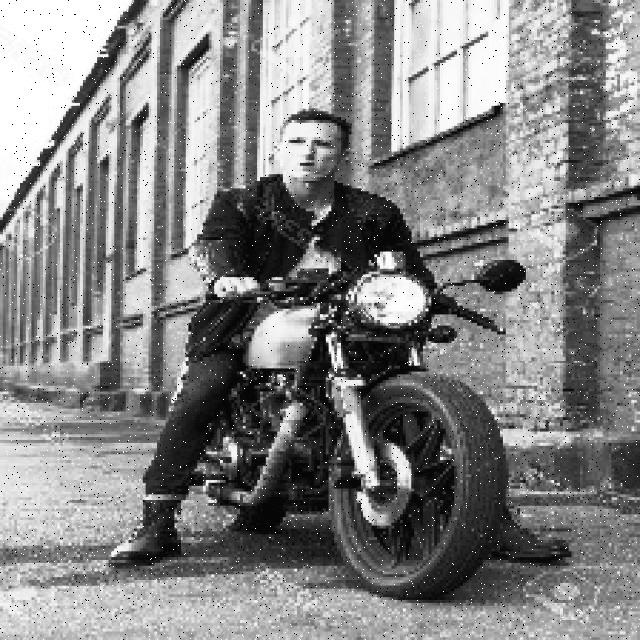Bike: (206, 265, 519, 607)
